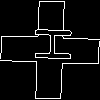H: (25, 25, 72, 63)
